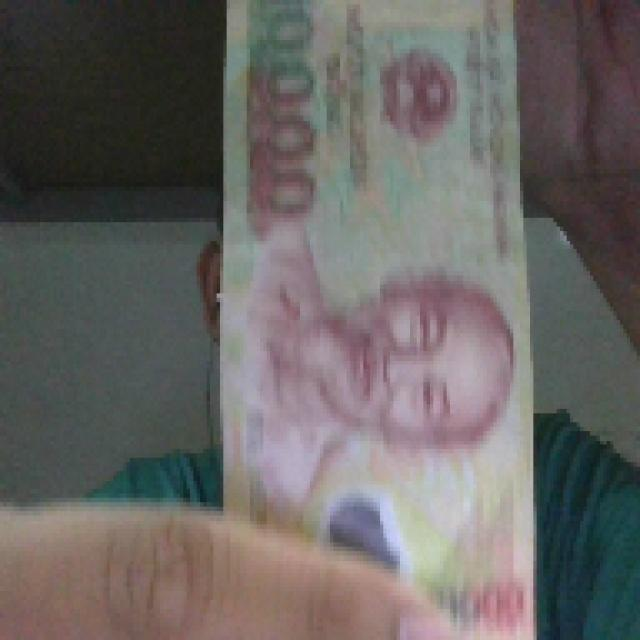10 000 VND: (217, 0, 540, 636)
